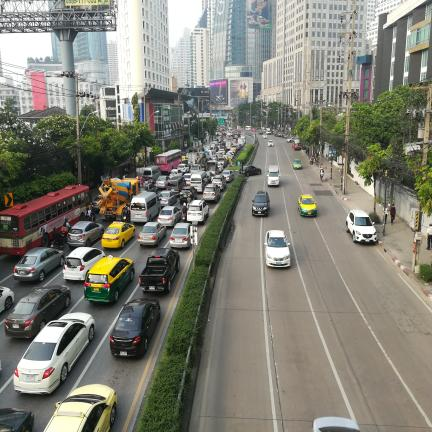bus: (0, 185, 91, 255), (155, 149, 182, 174)
car: (14, 313, 95, 394), (44, 384, 117, 432), (5, 285, 71, 338), (110, 298, 160, 357), (14, 247, 64, 282), (63, 247, 105, 281), (346, 209, 377, 243), (67, 221, 104, 247), (264, 230, 290, 267), (0, 408, 34, 432), (312, 417, 360, 432), (138, 222, 166, 246), (170, 222, 192, 247), (187, 200, 209, 224), (158, 206, 182, 226), (252, 191, 270, 216), (0, 287, 14, 312), (179, 185, 197, 204), (203, 183, 221, 202), (159, 190, 177, 207), (242, 165, 262, 177), (212, 174, 226, 190), (140, 182, 158, 194), (90, 196, 102, 213), (156, 175, 170, 189), (222, 170, 235, 182), (169, 169, 184, 179), (177, 163, 190, 173), (217, 159, 226, 172), (183, 173, 191, 185), (206, 171, 214, 183), (293, 159, 302, 169), (292, 144, 301, 150), (286, 137, 294, 143), (268, 140, 273, 146), (258, 129, 263, 135), (262, 133, 267, 138), (240, 135, 245, 139)
human: (52, 227, 63, 246), (426, 223, 432, 250), (85, 205, 95, 221), (383, 204, 389, 225), (390, 203, 396, 224), (62, 217, 70, 228), (182, 202, 187, 219), (187, 192, 192, 207), (320, 167, 324, 180)
motorbike: (50, 235, 66, 249), (122, 214, 131, 223), (182, 213, 187, 222), (309, 159, 313, 165)
pickup: (139, 249, 180, 293)
taxi: (84, 255, 134, 302), (101, 221, 135, 249), (298, 194, 317, 216), (182, 155, 188, 163), (251, 128, 256, 132)
truck: (98, 176, 141, 220), (268, 165, 280, 187), (206, 160, 220, 176), (186, 152, 199, 165), (237, 138, 245, 147), (266, 128, 271, 134)
van: (131, 192, 161, 223), (167, 176, 186, 196), (190, 171, 208, 192), (141, 165, 161, 183), (246, 126, 251, 131)
